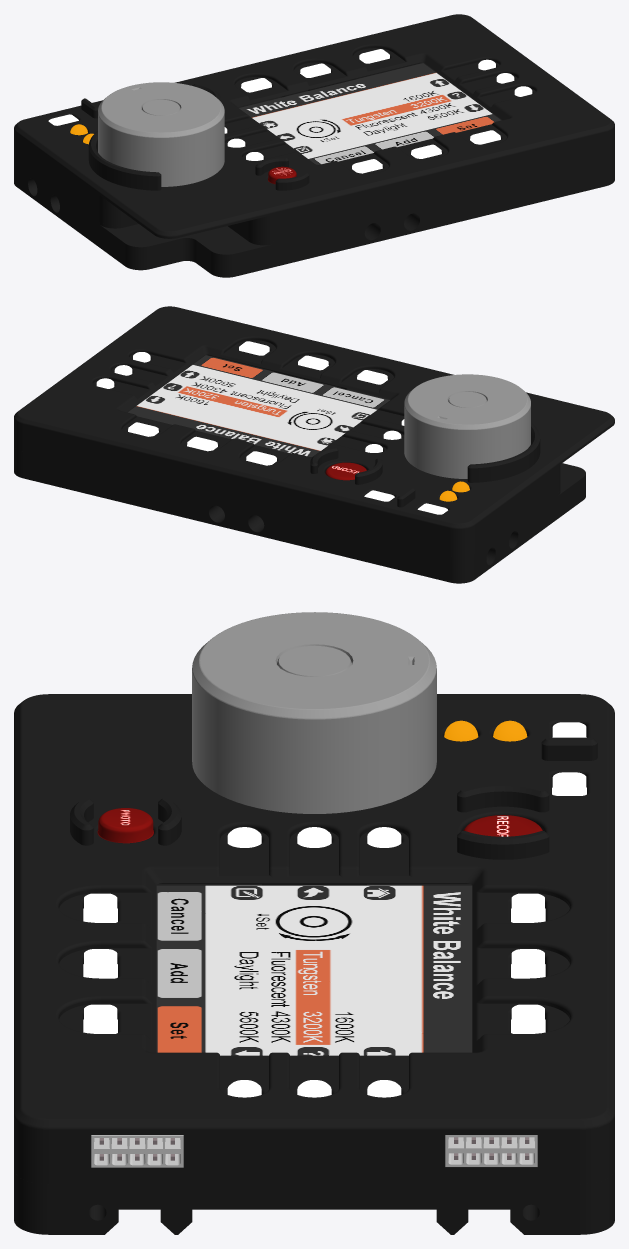
The model's file is axiom_remote02.glb.
3 views of the same model, one above another, from view 1: azimuth 30°, elevation 25°; view 2: azimuth 150°, elevation 25°; view 3: azimuth 270°, elevation 25° (orthographic). The views are drawn at different scales.
Visible parts, largest first — view 1: Enclosure top, Enclosure bottom, LCD, Knob_new, Knob_press; view 2: Enclosure top, Enclosure bottom, LCD, Knob_new, Button_photo_new.001, Knob_press; view 3: Enclosure top, LCD, Knob_new, Enclosure bottom, Object.128, Object.087, Knob_press, Button_photo_new, Button_photo_new.001, Button 1, Button 2, Button_4 (+3 smaller).
Part boxes in pixels (box(x1,y1,x2,y2)): Enclosure top: box(14, 14, 614, 241); Enclosure bottom: box(14, 62, 614, 277); LCD: box(239, 63, 501, 164); Knob_new: box(98, 82, 224, 186); Knob_press: box(142, 99, 180, 115); Enclosure top: box(14, 306, 614, 557); Enclosure bottom: box(14, 354, 585, 583); LCD: box(128, 355, 389, 456); Knob_new: box(404, 374, 530, 478); Button_photo_new.001: box(325, 462, 366, 480); Knob_press: box(448, 391, 486, 407); Enclosure top: box(14, 694, 614, 1184); LCD: box(156, 885, 472, 1055); Knob_new: box(192, 612, 436, 813); Enclosure bottom: box(14, 884, 614, 1234); Object.128: box(91, 1135, 183, 1167); Object.087: box(445, 1135, 537, 1166); Knob_press: box(277, 645, 351, 676); Button_photo_new: box(97, 808, 153, 843); Button_photo_new.001: box(463, 815, 542, 836); Button 1: box(511, 893, 545, 922); Button 2: box(511, 949, 545, 978); Button_4: box(83, 893, 117, 922).
Size of the model in its own units: 0.146 by 0.0349 by 0.086.
12 materials, 1 textured.
